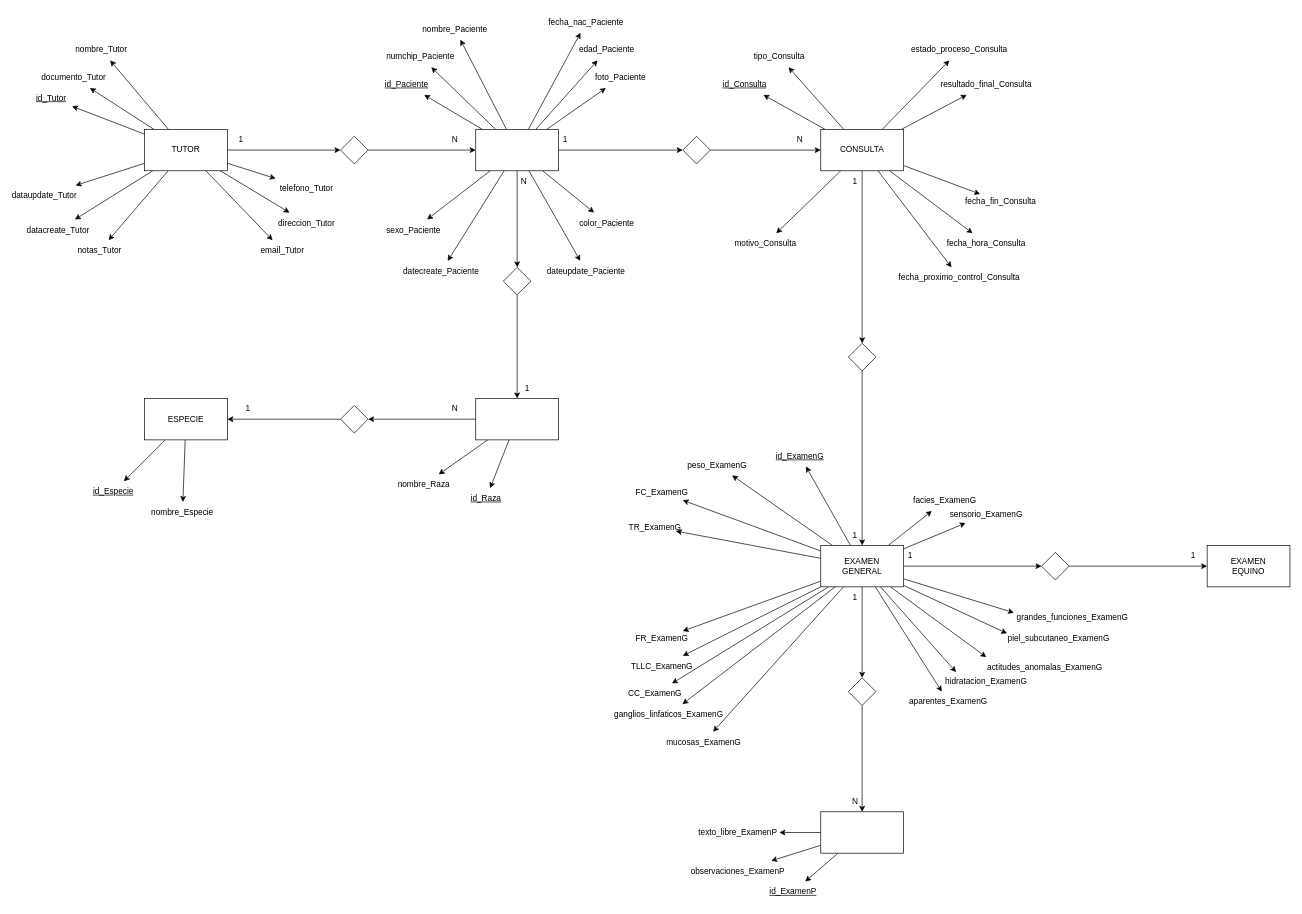
Some shapes in this 1302 by 914 pixel diagram are drawn without their labels. The shapes that lost their labels are listed below. From the top down, each one's box as (x1, y1, x2, y2) in pixels, then its label:
(475, 129, 559, 171): PACIENTE
(475, 398, 559, 440): RAZA
(820, 811, 904, 853): EXAMEN PARTICULAR
